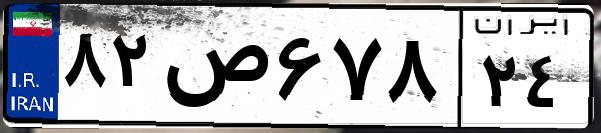2: (475, 38, 525, 113), (110, 28, 158, 98)
4: (525, 38, 570, 115)
6: (270, 28, 330, 110)
7: (330, 28, 385, 110)
8: (385, 28, 445, 110), (57, 26, 110, 100)
ص: (158, 20, 270, 120)
